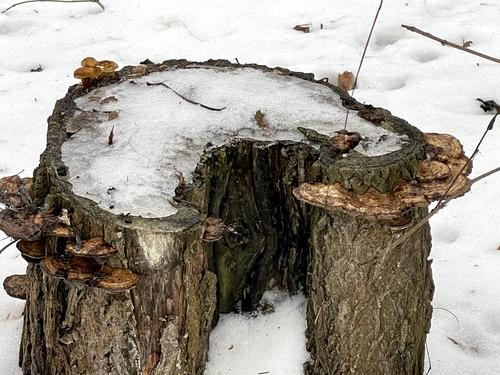Ganoderma - Fruit Body: (289, 129, 474, 222), (2, 175, 120, 256), (72, 52, 118, 86), (3, 270, 36, 298), (335, 70, 356, 92)
